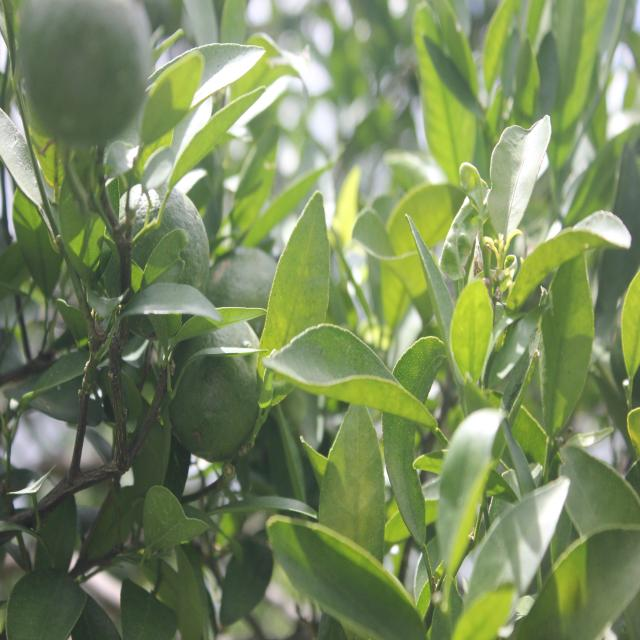blackspot: (306, 279, 324, 319), (209, 50, 233, 76), (299, 217, 314, 243), (273, 289, 284, 308)
